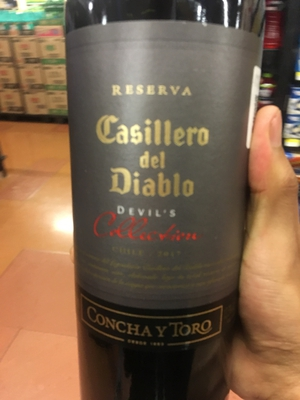casillero del diablo devils collection rojo: (60, 4, 263, 400)
